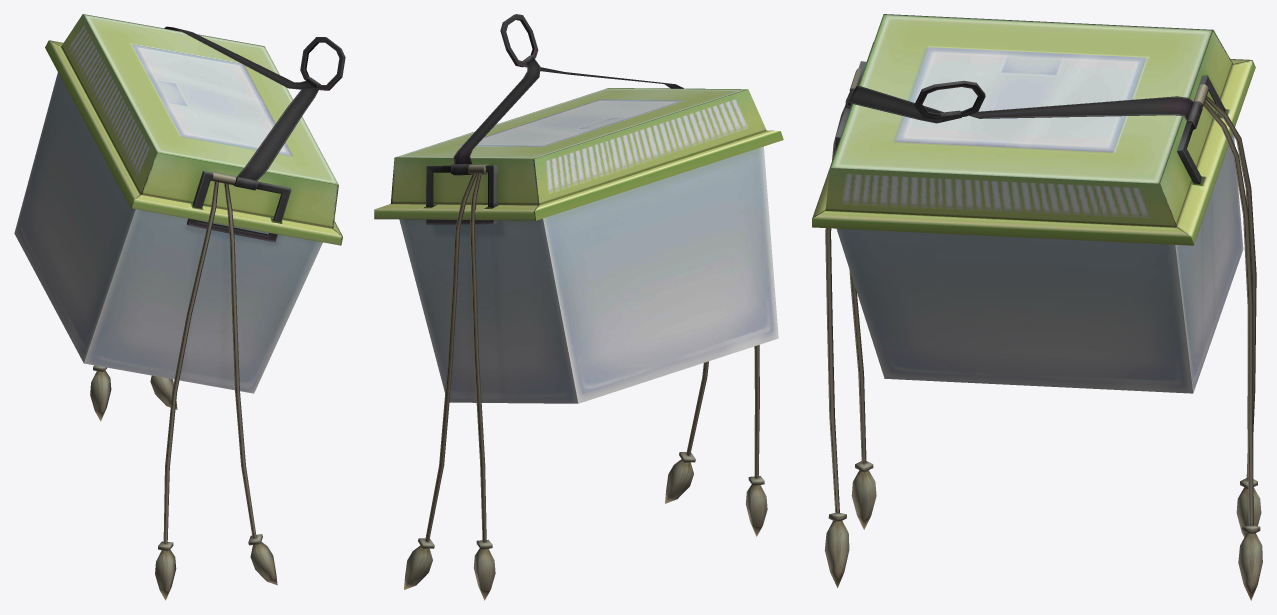
Rendered from acc_back0139.fbx.
3 renders of one model, left to right at view 1: azimuth 30°, elevation 25°; view 2: azimuth 150°, elevation 25°; view 3: azimuth 270°, elevation 25°, orthographic. The views are drawn at different scales.
Parts seen in each view (by area): view 1: acc_back0139; view 2: acc_back0139; view 3: acc_back0139.
Boxes of the visible parts, x1,y1,x2,y2 form: acc_back0139: [14, 14, 345, 600]; acc_back0139: [374, 14, 783, 600]; acc_back0139: [812, 14, 1262, 600].
Size of the model in its own units: 0.1641 by 0.2676 by 0.1933.
